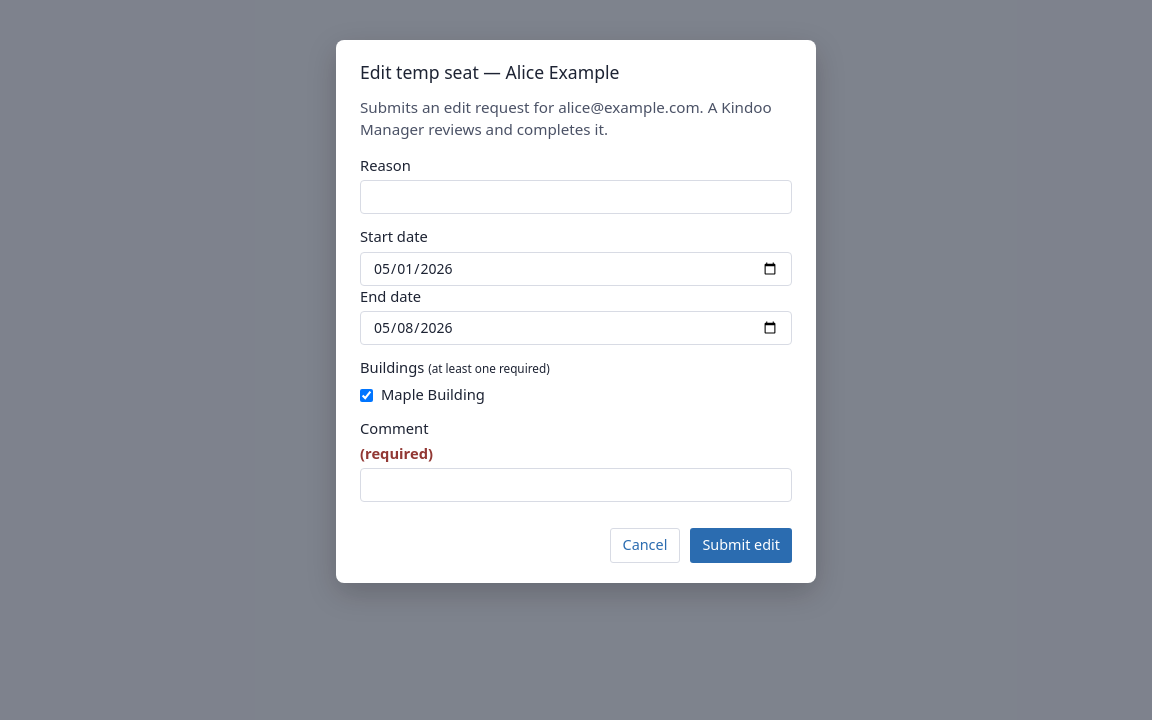
<EditSeatDialog /> — edit_temp sub-type › blocks submission with an inline error when the reason is whitespace-only
The width and height of the screenshot is (1152, 720).
Type "note" into the field with test id "edit-seat-comment" at (576, 485), box top-left (360, 468), bottom-right (792, 502)
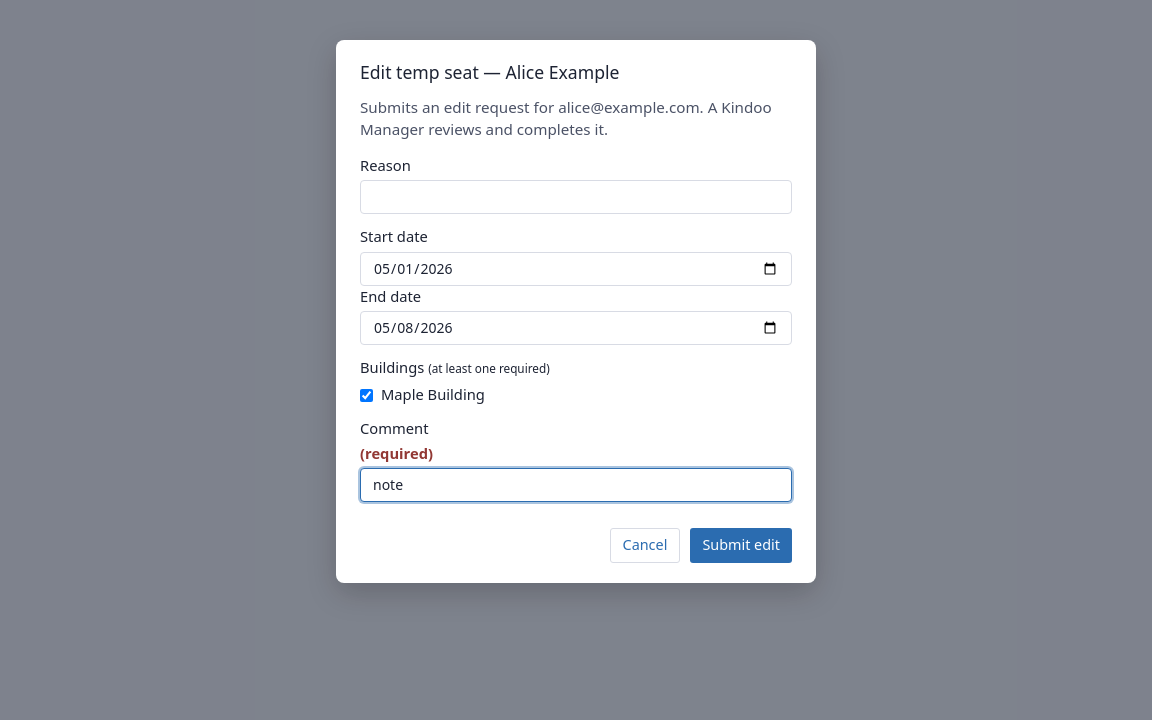
Click the button with test id "edit-seat-confirm" at (741, 546), box top-left (690, 528), bottom-right (792, 563)
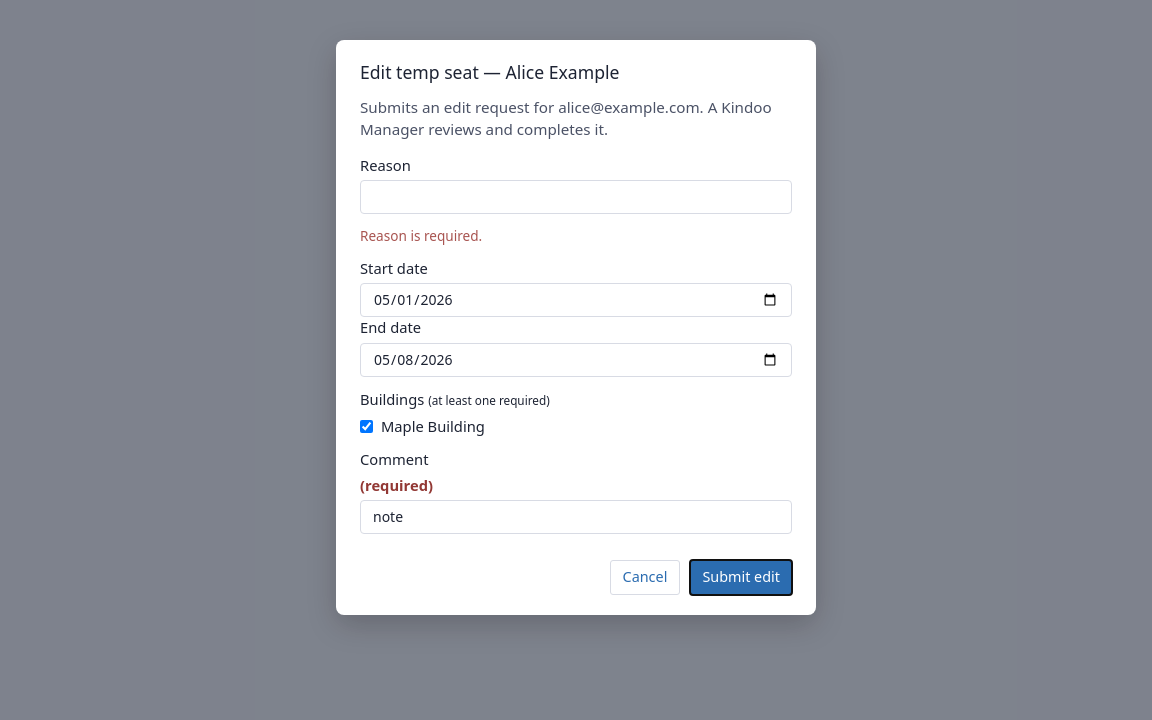
Now the text "Reason is required." is shown, box top-left (360, 226), bottom-right (482, 245)
